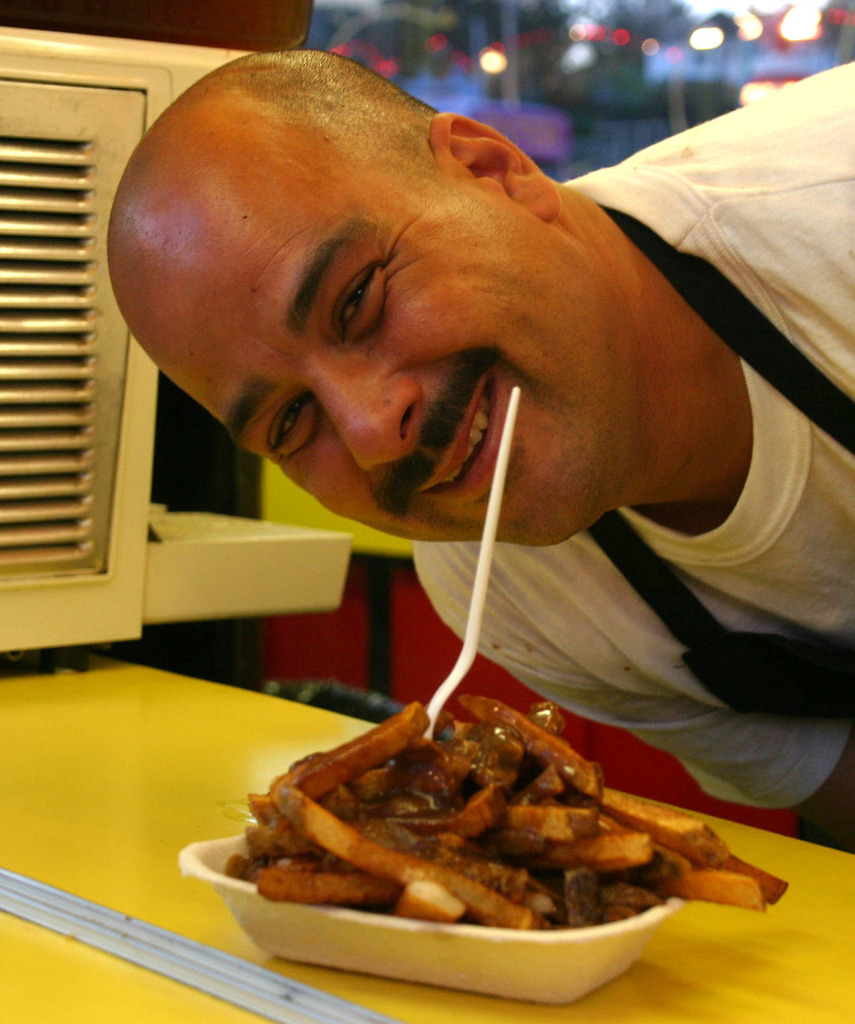French fries: (253, 720, 761, 937)
